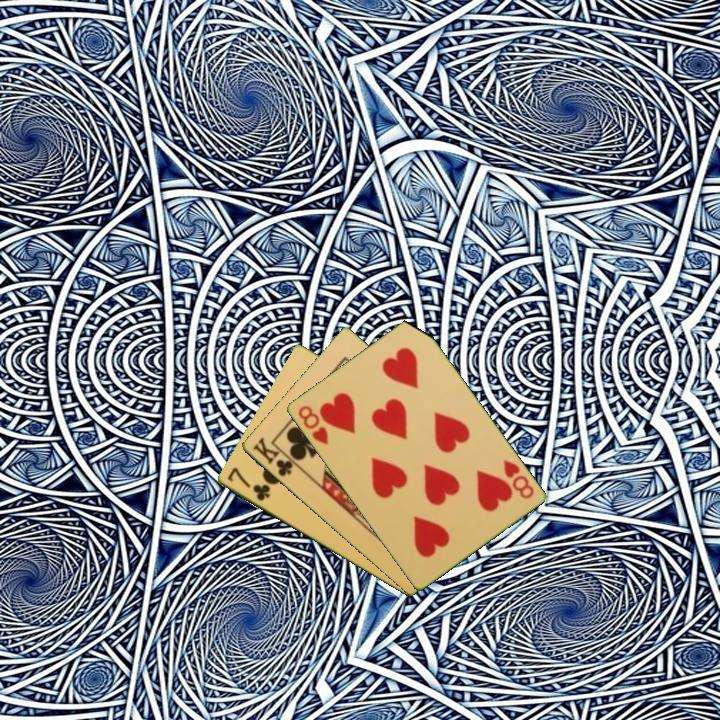7c: (223, 464, 273, 504)
8h: (499, 456, 537, 502), (294, 402, 331, 448)
Kc: (249, 433, 302, 480)
